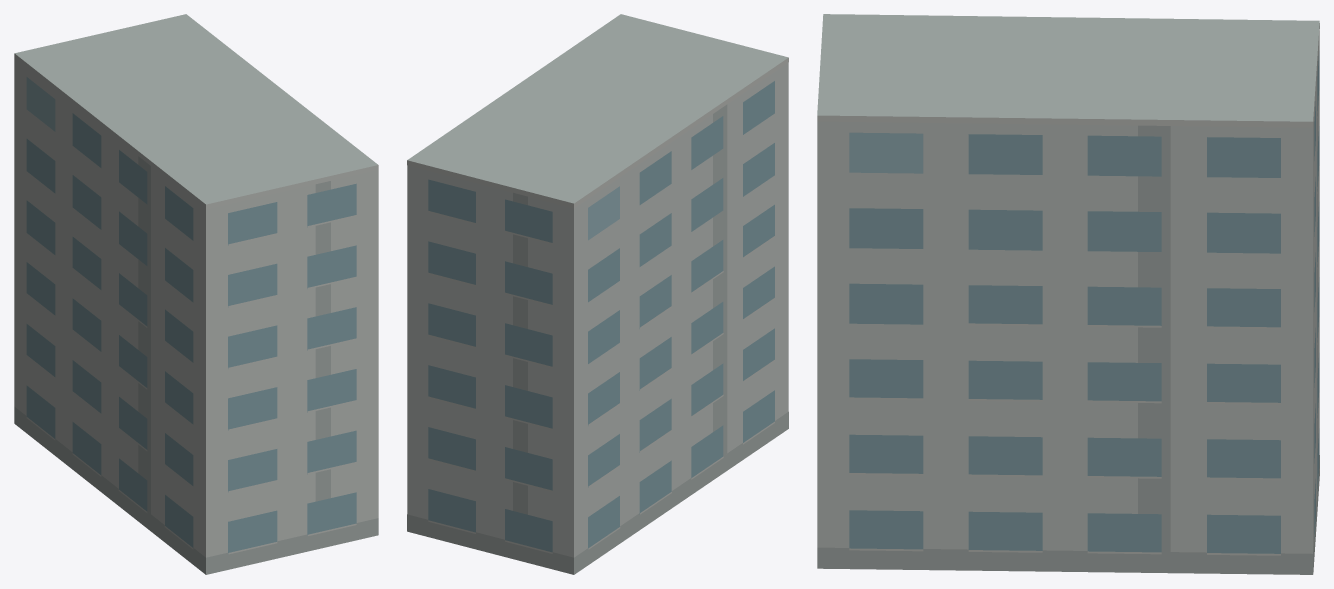
Rendered from survey-upis-32636754.glb.
The picture shows the model from 3 angles, left to right: view 1: azimuth 30°, elevation 25°; view 2: azimuth 150°, elevation 25°; view 3: azimuth 270°, elevation 25°; orthographic projection. The views are drawn at different scales.
Parts seen in each view (by area): view 1: survey-upis-32636754.tmp; view 2: survey-upis-32636754.tmp; view 3: survey-upis-32636754.tmp.
Part boxes in pixels (<box>): survey-upis-32636754.tmp: <box>14,14,378,574</box>; survey-upis-32636754.tmp: <box>407,14,788,574</box>; survey-upis-32636754.tmp: <box>817,14,1319,574</box>.
Size of the model in its own units: 9.34 by 18.3 by 18.41.
